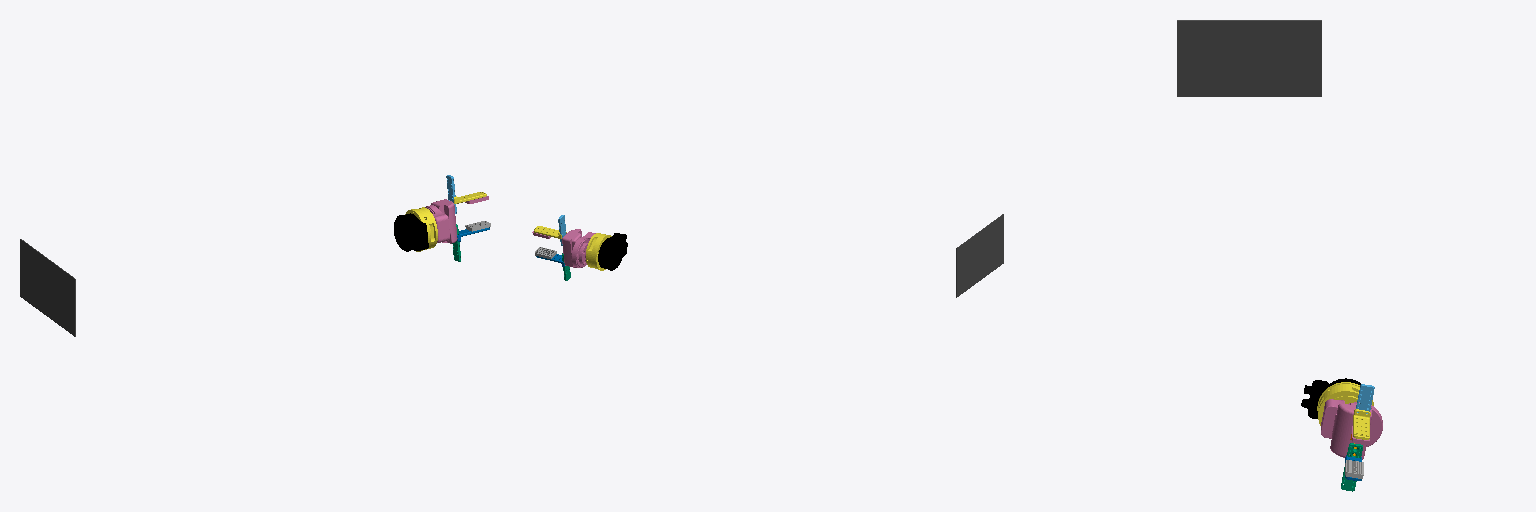
robot.urdf — sawyer:
<?xml version='1.0' encoding='UTF-8'?>
<robot name="sawyer"><material name="TossingBot/Black"><color rgba="0 0 0 1" /></material><material name="TossingBot/Gray"><color rgba="0.5 0.5 0.5 1" /></material><material name="black"><color rgba="0.05 0.05 0.05 1" /></material><material name="sawyer_red"><color rgba="0.5 0.1 0.1 1" /></material><material name="darkred"><color rgba="0.5 0.1 0.1 1" /></material><material name="darkgray"><color rgba="0.35 0.35 0.35 1" /></material><material name="sawyer_gray">
    <color rgba="0.75294 0.75294 0.75294 1" />
  </material><link name="right_arm_base_link">
    <inertial>
      <origin rpy="0 0 0" xyz="-0.0006241 -2.8025E-05 0.065404" />
      <mass value="2.0687" />
      <inertia ixx="0.0067599" ixy="-4.2024E-05" ixz="-6.1904E-07" iyy="0.0067877" iyz="1.5888E-05" izz="0.0074031" />
    </inertial>
    <visual>
      <origin rpy="0 0 0" xyz="0 0 0" />
      <geometry>
        <mesh filename="../meshes/sawyer_description/meshes/sawyer_pv/base.DAE" />
      </geometry>
      <material name="sawyer_red" />
    </visual>
    </link><link name="right_l0">
    <inertial>
      <origin rpy="0 0 0" xyz="0.024366 0.010969 0.14363" />
      <mass value="5.3213" />
      <inertia ixx="0.053314" ixy="0.0047093" ixz="0.011734" iyy="0.057902" iyz="0.0080179" izz="0.023659" />
    </inertial>
    <visual>
      <origin rpy="0 0 0" xyz="0 0 0" />
      <geometry>
        <mesh filename="../meshes/sawyer_description/meshes/sawyer_mp3/l0.DAE" />
      </geometry>
      <material name="sawyer_red" />
    </visual>
    </link><link name="head">
    <inertial>
      <origin rpy="0 0 0" xyz="0.0053207 -2.6549E-05 0.1021" />
      <mass value="1.5795" />
      <inertia ixx="0.011833" ixy="-4.4669E-06" ixz="4.9425E-05" iyy="0.0082709" iyz="4.2124E-07" izz="0.0049661" />
    </inertial>
    <visual>
      <origin rpy="0 0 0" xyz="0 0 0" />
      <geometry>
        <mesh filename="../meshes/sawyer_description/meshes/sawyer_pv/head.DAE" />
      </geometry>
      <material name="sawyer_red" />
    </visual>
    </link><link name="right_torso_itb">
    <inertial>
      <origin rpy="0 0 0" xyz="0.000000 0.000000 0.000000" />
      <mass value="0.0001" />
      <inertia ixx="1e-06" ixy="0" ixz="0" iyy="1e-06" iyz="0" izz="1e-06" />
    </inertial>
  </link><link name="right_l1">
    <inertial>
      <origin rpy="0 0 0" xyz="-0.0030849 -0.026811 0.092521" />
      <mass value="4.505" />
      <inertia ixx="0.022398" ixy="-0.00023986" ixz="-0.00029362" iyy="0.014613" iyz="-0.0060875" izz="0.017295" />
    </inertial>
    <visual>
      <origin rpy="0 0 0" xyz="0 0 0" />
      <geometry>
        <mesh filename="../meshes/sawyer_description/meshes/sawyer_mp3/l1.DAE" />
      </geometry>
      <material name="sawyer_red" />
    </visual>
    </link><link name="right_l2">
    <inertial>
      <origin rpy="0 0 0" xyz="-0.00016044 -0.014967 0.13582" />
      <mass value="1.745" />
      <inertia ixx="0.025506" ixy="4.4101E-06" ixz="1.4955E-05" iyy="0.0253" iyz="-0.0033204" izz="0.0034179" />
    </inertial>
    <visual>
      <origin rpy="0 0 0" xyz="0 0 0" />
      <geometry>
        <mesh filename="../meshes/sawyer_description/meshes/sawyer_pv/l2.DAE" />
      </geometry>
      <material name="sawyer_red" />
    </visual>
    </link><link name="right_l3">
    <inertial>
      <origin rpy="0 0 0" xyz="-0.0048135 -0.0281 -0.084154" />
      <mass value="2.5097" />
      <inertia ixx="0.01016" ixy="-9.7452E-06" ixz="0.00026624" iyy="0.0065685" iyz="0.0030316" izz="0.0069078" />
    </inertial>
    <visual>
      <origin rpy="0 0 0" xyz="0 0 0" />
      <geometry>
        <mesh filename="../meshes/sawyer_description/meshes/sawyer_pv/l3.DAE" />
      </geometry>
      <material name="sawyer_red" />
    </visual>
    </link><link name="right_l4">
    <inertial>
      <origin rpy="0 0 0" xyz="-0.0018844 0.0069001 0.1341" />
      <mass value="1.1136" />
      <inertia ixx="0.013557" ixy="1.8109E-05" ixz="0.00013523" iyy="0.013555" iyz="0.0010561" izz="0.0013658" />
    </inertial>
    <visual>
      <origin rpy="0 0 0" xyz="0 0 0" />
      <geometry>
        <mesh filename="../meshes/sawyer_description/meshes/sawyer_pv/l4.DAE" />
      </geometry>
      <material name="sawyer_red" />
    </visual>
    </link><link name="right_arm_itb">
    <inertial>
      <origin rpy="0 0 0" xyz="0.000000 0.000000 0.000000" />
      <mass value="0.0001" />
      <inertia ixx="1e-06" ixy="0" ixz="0" iyy="1e-06" iyz="0" izz="1e-06" />
    </inertial>
  </link><link name="right_l5">
    <inertial>
      <origin rpy="0 0 0" xyz="0.0061133 -0.023697 0.076416" />
      <mass value="1.5625" />
      <inertia ixx="0.0047328" ixy="0.00011526" ixz="4.6269E-05" iyy="0.0029676" iyz="-0.0011557" izz="0.0031762" />
    </inertial>
    <visual>
      <origin rpy="0 0 0" xyz="0 0 0" />
      <geometry>
        <mesh filename="../meshes/sawyer_description/meshes/sawyer_pv/l5.DAE" />
      </geometry>
      <material name="sawyer_red" />
    </visual>
    </link><link name="right_hand_camera"><inertial><mass value="1e-04" /><inertia ixx="1e-06" iyy="1e-06" izz="1e-06" ixy="0" ixz="0" iyz="0" /></inertial></link><link name="right_wrist"><inertial><mass value="1e-04" /><inertia ixx="1e-06" iyy="1e-06" izz="1e-06" ixy="0" ixz="0" iyz="0" /></inertial></link><link name="right_l6">
    <inertial>
      <origin rpy="0 0 0" xyz="-8.0726E-06 0.0085838 -0.0049566" />
      <mass value="0.3292" />
      <inertia ixx="0.00031105" ixy="1.4771E-06" ixz="-3.7074E-07" iyy="0.00021549" iyz="-8.4533E-06" izz="0.00035976" />
    </inertial>
    <visual>
      <origin rpy="0 0 0" xyz="0 0 0" />
      <geometry>
        <mesh filename="../meshes/sawyer_description/meshes/sawyer_mp1/l6.DAE" />
      </geometry>
      <material name="sawyer_red" />
    </visual>
    </link><link name="right_hand">
    <inertial>
      <origin rpy="0 0 0" xyz="1.0E-08 1.0E-08 1.0E-08" />
      <mass value="1e-04" />
      <inertia ixx="1e-06" ixy="1.0E-08" ixz="1.0E-08" iyy="1e-06" iyz="1.0E-08" izz="1e-06" />
    </inertial>
  </link><link name="screen">
    <visual>
      <origin rpy="0 0 0" xyz="0 0 0" />
      <geometry>
        <box size="0.24 0.14 0.002" />
      </geometry>
      <material name="darkgray" />
    </visual>
    <inertial>
      <origin rpy="0 0 0" xyz="0 0 0" />
      <mass value="0.0001" />
      <inertia ixx="1e-06" ixy="0" ixz="0" iyy="1e-06" iyz="0" izz="1e-06" />
    </inertial>
  </link><link name="head_camera"><inertial><mass value="1e-04" /><inertia ixx="1e-06" iyy="1e-06" izz="1e-06" ixy="0" ixz="0" iyz="0" /></inertial></link><joint name="right_j0" type="revolute">
    <origin rpy="0 0 0" xyz="0 0 0.08" />
    <parent link="right_arm_base_link" />
    <child link="right_l0" />
    <axis xyz="0 0 1" />
    <limit effort="80.0" lower="-3.0503" upper="3.0503" velocity="1.74" />
  </joint><joint name="head_pan" type="revolute">
    <origin rpy="0 0 0" xyz="0 0 0.2965" />
    <parent link="right_l0" />
    <child link="head" />
    <axis xyz="0 0 1" />
    <limit effort="8" lower="-5.0952" upper="0.9064" velocity="1.8" />
  </joint><joint name="right_torso_itb" type="fixed">
    <origin rpy="0 -1.57079632679 0" xyz="-.055 0 .22" />
    <parent link="right_l0" />
    <child link="right_torso_itb" />
    <axis xyz="0 0 1" />
  </joint><joint name="right_j1" type="revolute">
    <origin rpy="-1.57079632679 1.57079632679 0" xyz="0.081 0.05 0.237" />
    <parent link="right_l0" />
    <child link="right_l1" />
    <axis xyz="0 0 1" />
    <limit effort="80.0" lower="-3.8095" upper="2.2736" velocity="1.328" />
  </joint><joint name="right_j2" type="revolute">
    <origin rpy="1.57079632679 0 0" xyz="0 -0.14 0.1425" />
    <parent link="right_l1" />
    <child link="right_l2" />
    <axis xyz="0 0 1" />
    <limit effort="40.0" lower="-3.0426" upper="3.0426" velocity="1.957" />
  </joint><joint name="right_j3" type="revolute">
    <origin rpy="-1.57079632679 0 0" xyz="0 -0.042 0.26" />
    <parent link="right_l2" />
    <child link="right_l3" />
    <axis xyz="0 0 1" />
    <limit effort="40.0" lower="-3.0439" upper="3.0439" velocity="1.957" />
  </joint><joint name="right_j4" type="revolute">
    <origin rpy="1.57079632679 0 0" xyz="0 -0.125 -0.1265" />
    <parent link="right_l3" />
    <child link="right_l4" />
    <axis xyz="0 0 1" />
    <limit effort="9.0" lower="-2.9761" upper="2.9761" velocity="3.485" />
  </joint><joint name="right_arm_itb" type="fixed">
    <origin rpy="0 -1.57079632679 0" xyz="-.055 0 .075" />
    <parent link="right_l4" />
    <child link="right_arm_itb" />
    <axis xyz="0 0 1" />
  </joint><joint name="right_j5" type="revolute">
    <origin rpy="-1.57079632679 0 0" xyz="0 0.031 0.275" />
    <parent link="right_l4" />
    <child link="right_l5" />
    <axis xyz="0 0 1" />
    <limit effort="9.0" lower="-2.9761" upper="2.9761" velocity="3.485" />
  </joint><joint name="right_hand_camera" type="fixed">
    <origin rpy="0 1.57079632679 0" xyz="0.039552 -0.033 0.0695" />
    <parent link="right_l5" />
    <child link="right_hand_camera" />
    <axis xyz="0 0 0" />
  </joint><joint name="right_wrist" type="fixed">
    <origin rpy="1.57079632679 0 0" xyz="0 0 0.10541" />
    <parent link="right_l5" />
    <child link="right_wrist" />
    <axis xyz="0 0 0" />
  </joint><joint name="right_j6" type="revolute">
    <origin rpy="-1.57079632679 -0.17453 3.1416" xyz="0 -0.11 0.1053" />
    <parent link="right_l5" />
    <child link="right_l6" />
    <axis xyz="0 0 1" />
    <limit effort="9.0" lower="-4.7124" upper="4.7124" velocity="4.545" />
  </joint><joint name="right_hand" type="fixed">
    <origin rpy="0 0 1.570796" xyz="0 0 0.0245" />
    <axis xyz="0 0 1" />
    <parent link="right_l6" />
    <child link="right_hand" />
  </joint><joint name="display_joint" type="fixed">
    <origin rpy="1.57079632679 0 1.57079632679" xyz="0.03 0.0 0.105" />
    <parent link="head" />
    <child link="screen" />
  </joint><joint name="head_camera" type="fixed">
    <origin rpy="-2.1293 0 -1.57079632679" xyz="0.0228027 0 0.216572" />
    <parent link="head" />
    <child link="head_camera" />
    <axis xyz="0 0 0" />
  </joint><link name="right_gripper_base">
    <inertial>
      <mass value="1.902" />
      <origin rpy="0 0 0" xyz="0.0028 -0.0004 0.0343" />
      <inertia ixx="1e-06" ixy="0" ixz="0" iyy="1e-06" iyz="0" izz="1e-06" />
    </inertial>
  </link>
  <joint name="right_connector_plate_base_joint" type="fixed">
    <origin rpy="0 0 0" xyz="0 0 0.0018" />
    <parent link="right_gripper_base" />
    <child link="right_connector_plate_base" />
  </joint>
  <link name="right_connector_plate_base">
    <visual>
      <origin rpy="3.141592653589793 0 0" xyz="0 0 0" />
      <geometry>
        <mesh filename="../meshes/tossingbot_gripper_description/STL/connector_plate.STL" scale="0.001 0.001 0.001" />
      </geometry>
      <material name="TossingBot/Black" />
    </visual>
    <inertial>
      <origin rpy="3.141592653589793 0 0" xyz="0 0 0" />
      <mass value="0.387" />
      <inertia ixx="0.0000292897" ixy="6.1026E-08" ixz="-1.5353186E-7" iyy="0.0000296079" iyz="-3.597884E-8" izz="0.0000508198" />
    </inertial>
  </link>
  <joint name="right_connector_plate_mount_joint" type="fixed">
    <origin rpy="0 0 0" xyz="0 0 0.032 " />
    <parent link="right_connector_plate_base" />
    <child link="right_connector_plate_mount" />
  </joint>
  <link name="right_connector_plate_mount"><inertial><mass value="1e-04" /><inertia ixx="1e-06" iyy="1e-06" izz="1e-06" ixy="0" ixz="0" iyz="0" /></inertial></link>
  <joint name="right_ft_sensor_joint" type="fixed">
    <origin rpy="0 0 0" xyz="0 0 0" />
    <parent link="right_connector_plate_mount" />
    <child link="right_ft_sensor_link" />
  </joint>
  <link name="right_ft_sensor_link">
    <visual>
      <origin rpy="3.141592653589793 0 1.5707963267948966" xyz="0 0 0" />
      <geometry>
        <mesh filename="../meshes/tossingbot_gripper_description/STL/ft_sensor.STL" scale="0.001 0.001 0.001" />
      </geometry>
      <material name="TossingBot/Grey" />
    </visual>
    <inertial>
      <origin rpy="3.141592653589793 0 1.5707963267948966" xyz="0 0 0" />
      <mass value="0.919" />
      <inertia ixx="0.0001756735" ixy="6.8322E-8" ixz="-2.7814E-8" iyy="0.0001757811" iyz="-9.2588E-8" izz="0.0002122946" />
    </inertial>
  </link>
  <joint name="right_adapter_top_joint" type="fixed">
    <origin rpy="0 0 0" xyz="0 0 0.033" />
    <parent link="right_ft_sensor_link" />
    <child link="right_adapter_top" />
  </joint>
  <link name="right_adapter_top">
    <visual>
      <origin rpy="-1.5707963267948966 0 0" xyz="0 0 0.013" />
      <geometry>
        <mesh filename="../meshes/tossingbot_gripper_description/STL/adapter_top.STL" scale="0.001 0.001 0.001" />
      </geometry>
      <material name="TossingBot/Grey" />
    </visual>
    <inertial>
      <origin rpy="-1.5707963267948966 0 0" xyz="0.0 0.0 0.0" />
      <mass value="0.061" />
      <inertia ixx="0.0000418848" ixy="0" ixz="0" iyy="0.0000761051" iyz="0" izz="0.0000418848" />
    </inertial>
  </link>
  <joint name="right_adapter_bottom_joint" type="fixed">
    <origin rpy="0 0 0" xyz="0 0 0.013" />
    <parent link="right_adapter_top" />
    <child link="right_adapter_bottom" />
  </joint>
  <link name="right_adapter_bottom">
    <visual>
      <origin rpy="-1.5707963267948966 0 1.5707963267948966" xyz="0 0 0.018" />
      <geometry>
        <mesh filename="../meshes/tossingbot_gripper_description/STL/adapter_bottom.STL" scale="0.001 0.001 0.001" />
      </geometry>
      <material name="TossingBot/Grey" />
    </visual>
    <inertial>
      <origin rpy="-1.5707963267948966 0 1.5707963267948966" xyz="0.0 0.0 0.0" />
      <mass value="0.098" />
      <inertia ixx="0.0000721906" ixy="0" ixz="0" iyy="0.0001202265" iyz="0" izz="0.0000723151" />
    </inertial>
  </link>
  
  <joint name="right_pneumatic_gripper_base_joint" type="fixed">
    <origin rpy="1.5707963267948966 0 0" xyz="0 0 0.018" />
    <parent link="right_adapter_bottom" />
    <child link="right_pneumatic_gripper_base" />
  </joint>
  <link name="right_pneumatic_gripper_base">
    <inertial>
      <mass value="0.38585" />
      <inertia ixx="0.000323" ixy="0.000027" ixz="0" iyy="0.000398" iyz="0" izz="0.00034" />
    </inertial>
    <visual>
      
      <origin rpy="0 0 0" xyz="-11.819 5.822 -0.075" />
      <geometry>
        <mesh filename="../meshes/tossingbot_gripper_description/STL/mocha/gripper_base_visual.obj" />
      </geometry>
    </visual>
    <collision>
      <origin rpy="0 0 0" xyz="0 0 0" />
      <geometry>
        <mesh filename="../meshes/tossingbot_gripper_description/STL/mocha/gripper_base_collision.stl" />
      </geometry>
    </collision>
  </link>
  <link name="right_l_finger_mount">
    <inertial>
      <mass value="0.0682" />
      <inertia ixx="0.000006" ixy="0" ixz="0" iyy="0.000003" iyz="0" izz="0.000005" />
    </inertial>
    <visual>
      <origin rpy="0 0 0" xyz="0 0 -2.509" />
      <geometry>
        <mesh filename="../meshes/tossingbot_gripper_description/STL/mocha/l_finger_mount_visual.obj" />
      </geometry>
    </visual>
    <collision>
      <origin rpy="0 0 0" xyz="0 0 0" />
      <geometry>
        <mesh filename="../meshes/tossingbot_gripper_description/STL/mocha/l_finger_mount_collision.stl" />
      </geometry>
    </collision>
  </link>
  <link name="right_r_finger_mount">
    <inertial>
      <mass value="0.0634" />
      <inertia ixx="0.000006" ixy="0" ixz="0" iyy="0.000003" iyz="0" izz="0.000004" />
    </inertial>
    <visual>
      <origin rpy="0 0 0" xyz="-0.018 0 2.528" />
      <geometry>
        <mesh filename="../meshes/tossingbot_gripper_description/STL/mocha/r_finger_mount_visual.obj" />
      </geometry>
    </visual>
    <collision>
      <origin rpy="0 0 0" xyz="0 0 0" />
      <geometry>
        <mesh filename="../meshes/tossingbot_gripper_description/STL/mocha/r_finger_mount_collision.stl" />
      </geometry>
    </collision>
  </link>
  <link name="right_gripper_l_finger">
    <inertial>
      <mass value="0.273" />
      <inertia ixx="0.000163" ixy="0" ixz="0" iyy="0.000175" iyz="0" izz="0.000014" />
    </inertial>
    <visual>
      <origin rpy="0 0 0" xyz="0 0.045 6.953" />
      <geometry>
        <mesh filename="../meshes/tossingbot_gripper_description/STL/mocha/l_finger_guide_visual.obj" />
      </geometry>
    </visual>
    <collision>
      <origin rpy="0 0 0" xyz="0 0 0" />
      <geometry>
        <mesh filename="../meshes/tossingbot_gripper_description/STL/mocha/l_finger_guide_collision.stl" />
      </geometry>
    </collision>
  </link>
  <link name="right_gripper_r_finger">
    <inertial>
      <mass value="0.273" />
      <inertia ixx="0.000163" ixy="0" ixz="0" iyy="0.000175" iyz="0" izz="0.000014" />
    </inertial>
    <visual>
      <origin rpy="0 0 0" xyz="0 0.045 -6.953" />
      <geometry>
        <mesh filename="../meshes/tossingbot_gripper_description/STL/mocha/r_finger_guide_visual.obj" />
      </geometry>
    </visual>
    <collision>
      <origin rpy="0 0 0" xyz="0 0 0" />
      <geometry>
        <mesh filename="../meshes/tossingbot_gripper_description/STL/mocha/r_finger_guide_collision.stl" />
      </geometry>
    </collision>
  </link>
  <link name="right_gripper_l_finger_base">
    <inertial>
      <mass value="0.3609" />
      <inertia ixx="0.000198" ixy="0" ixz="0" iyy="0.000028" iyz="0.000014" izz="0.000213" />
    </inertial>
    <visual>
      <origin rpy="0 0 0" xyz="-0.243 0.6 4.041" />
      <geometry>
        <mesh filename="../meshes/tossingbot_gripper_description/STL/mocha/l_finger_linkage_visual.obj" />
      </geometry>
    </visual>
    <collision>
      <origin rpy="0 0 0" xyz="0 0 0" />
      <geometry>
        <mesh filename="../meshes/tossingbot_gripper_description/STL/mocha/l_finger_linkage_collision.stl" />
      </geometry>
    </collision>
  </link>
  <link name="right_gripper_r_finger_base">
    <inertial>
      <mass value="0.3609" />
      <inertia ixx="0.000198" ixy="0" ixz="0" iyy="0.000028" iyz="-0.000014" izz="0.000213" />
    </inertial>
    <visual>
      <origin rpy="0 0 0" xyz="0.243 0.6 -4.041" />
      <geometry>
        <mesh filename="../meshes/tossingbot_gripper_description/STL/mocha/r_finger_linkage_visual.obj" />
      </geometry>
    </visual>
    <collision>
      <origin rpy="0 0 0" xyz="0 0 0" />
      <geometry>
        <mesh filename="../meshes/tossingbot_gripper_description/STL/mocha/r_finger_linkage_collision.stl" />
      </geometry>
    </collision>
  </link>
  <link name="right_gripper_crossbar">
    <inertial>
      <mass value="0.36" />
      <inertia ixx="0.000015" ixy="-0.000002" ixz="0" iyy="0.000012" iyz="0" izz="0.000024" />
    </inertial>
    <visual>
      <origin rpy="0 0 0" xyz="0 1.25 0" />
      <geometry>
        <mesh filename="../meshes/tossingbot_gripper_description/STL/mocha/crossbar_visual.obj" />
      </geometry>
    </visual>
    <collision>
      <origin rpy="0 0 0" xyz="0 0 0" />
      <geometry>
        <mesh filename="../meshes/tossingbot_gripper_description/STL/mocha/crossbar_collision.stl" />
      </geometry>
    </collision>
  </link>
  <link name="right_gripper_l_finger_tip">
    <inertial>
      <mass value="0.2127" />
      <inertia ixx="0.000045" ixy="0" ixz="0" iyy="0.000017" iyz="0" izz="0.00006" />
    </inertial>
    <visual>
      <origin rpy="0 0 0" xyz="0.051 -2.633 0.903" />
      <geometry>
        <mesh filename="../meshes/tossingbot_gripper_description/STL/mocha/l_finger_pad_visual.obj" />
      </geometry>
    </visual>
    <collision>
      <origin rpy="0 0 0" xyz="0 0 0" />
      <geometry>
        <mesh filename="../meshes/tossingbot_gripper_description/STL/mocha/l_finger_pad_collision.stl" />
      </geometry>
    </collision>
  </link>
  <link name="right_gripper_r_finger_tip">
    <inertial>
      <mass value="0.2127" />
      <inertia ixx="0.000045" ixy="0" ixz="0" iyy="0.000017" iyz="0" izz="0.00006" />
    </inertial>
    <visual>
      <origin rpy="0 0 0" xyz="-0.051 -2.633 -0.902" />
      <geometry>
        <mesh filename="../meshes/tossingbot_gripper_description/STL/mocha/r_finger_pad_visual.obj" />
      </geometry>
    </visual>
    <collision>
      <origin rpy="0 0 0" xyz="0 0 0" />
      <geometry>
        <mesh filename="../meshes/tossingbot_gripper_description/STL/mocha/r_finger_pad_collision.stl" />
      </geometry>
    </collision>
  </link>
  <joint name="right_l_finger_mount_joint" type="fixed">
    <origin rpy="0 0 0" xyz="-0.01999 0.030006 0.026793" />
    <parent link="right_pneumatic_gripper_base" />
    <child link="right_l_finger_mount" />
    <dynamics damping="0" friction="0" />
  </joint>
  <joint name="right_r_finger_mount_joint" type="fixed">
    <origin rpy="0 0 0" xyz="-0.019973 0.030007 -0.027022" />
    <parent link="right_pneumatic_gripper_base" />
    <child link="right_r_finger_mount" />
    <dynamics damping="0" friction="0" />
  </joint>
  <joint name="right_gripper_l_finger_joint" type="prismatic">
    <origin rpy="0 0 0" xyz="0 0.015956 0.02076" />
    <parent link="right_l_finger_mount" />
    <child link="right_gripper_l_finger" />
    <dynamics damping="0" friction="0" />
    <axis xyz="0 0 1" />
    <limit effort="40" lower="0.0" upper="0.006" velocity="1" />
  </joint>
  <joint name="right_gripper_r_finger_joint" type="prismatic">
    <origin rpy="0 0 0" xyz="-0.000018 0.015956 -0.02068" />
    <parent link="right_r_finger_mount" />
    <child link="right_gripper_r_finger" />
    <dynamics damping="0" friction="0" />
    <axis xyz="0 0 -1" />
    <limit effort="40" lower="0.0" upper="0.006" velocity="1" />
    
  </joint>
  <joint name="right_gripper_l_finger_base_joint" type="fixed">
    <origin rpy="0 0 0" xyz="0.000243 0.039694 -0.007738" />
    <parent link="right_gripper_l_finger" />
    <child link="right_gripper_l_finger_base" />
    <dynamics damping="0" friction="0" />
  </joint>
  <joint name="right_gripper_r_finger_base_joint" type="fixed">
    <origin rpy="0 0 0" xyz="-0.000243 0.039694 0.007738" />
    <parent link="right_gripper_r_finger" />
    <child link="right_gripper_r_finger_base" />
    <dynamics damping="0" friction="0" />
  </joint>
  <joint name="right_gripper_crossbar_joint" type="fixed">
    <origin rpy="0 0 0" xyz="-0.01999 0.028257 -0.000075" />
    <parent link="right_pneumatic_gripper_base" />
    <child link="right_gripper_crossbar" />
    <dynamics damping="0" friction="0" />
  </joint>
  <joint name="right_gripper_l_finger_tip_joint" type="fixed">
    <origin rpy="0 0 0" xyz="-0.000094 0.022583 -0.009662" />
    <parent link="right_gripper_l_finger_base" />
    <child link="right_gripper_l_finger_tip" />
    <dynamics damping="0" friction="0" />
  </joint>
  <joint name="right_gripper_r_finger_tip_joint" type="fixed">
    <origin rpy="0 0 0" xyz="0.000094 0.022583 0.009661" />
    <parent link="right_gripper_r_finger_base" />
    <child link="right_gripper_r_finger_tip" />
    <dynamics damping="0" friction="0" />
  </joint>
  
  <joint name="right_gripper_tip_joint" type="fixed">
    <origin rpy="0 0 0" xyz="0 0 0.206" />
    
    <parent link="right_gripper_base" />
    <child link="right_gripper_tip" />
  </joint>
  <link name="right_gripper_tip"><inertial><mass value="1e-04" /><inertia ixx="1e-06" iyy="1e-06" izz="1e-06" ixy="0" ixz="0" iyz="0" /></inertial></link>
<joint name="attachment_to_right_gripper_base" type="fixed"><parent link="right_hand" /><child link="right_gripper_base" /><origin xyz="0 0 0" rpy="0 0 0" /></joint></robot>

--- Render facts (derived) ---
3 views of the same robot in one strip: view 1: azimuth 30°, elevation 25°; view 2: azimuth 150°, elevation 25°; view 3: azimuth 270°, elevation 25° (orthographic).
Robot: sawyer — 33 links, 32 joints (8 revolute, 2 prismatic, 22 fixed); root link right_arm_base_link; default pose: every joint at zero.
Visible links, largest first — view 1: screen, right_connector_plate_base, right_pneumatic_gripper_base; view 2: screen, right_pneumatic_gripper_base, right_connector_plate_base; view 3: screen, right_pneumatic_gripper_base, right_ft_sensor_link, right_connector_plate_base.
Boxes of the visible links, left/top/right/bottom form: screen: left=20, top=239, right=75, bottom=336; right_connector_plate_base: left=394, top=213, right=428, bottom=251; right_pneumatic_gripper_base: left=425, top=199, right=457, bottom=243; screen: left=956, top=214, right=1003, bottom=297; right_pneumatic_gripper_base: left=562, top=229, right=595, bottom=267; right_connector_plate_base: left=598, top=233, right=627, bottom=270; screen: left=1177, top=20, right=1321, bottom=96; right_pneumatic_gripper_base: left=1321, top=399, right=1382, bottom=459; right_ft_sensor_link: left=1317, top=382, right=1373, bottom=425; right_connector_plate_base: left=1301, top=378, right=1360, bottom=418.
Bounding box of the posed robot: 1.21 × 0.3419 × 0.3354 m (x, y, z).
12 mesh visuals loaded from 23 distinct referenced files (2 binary STL, 10 OBJ); not drawn: 11 (reference not matched to a file when rendering).
